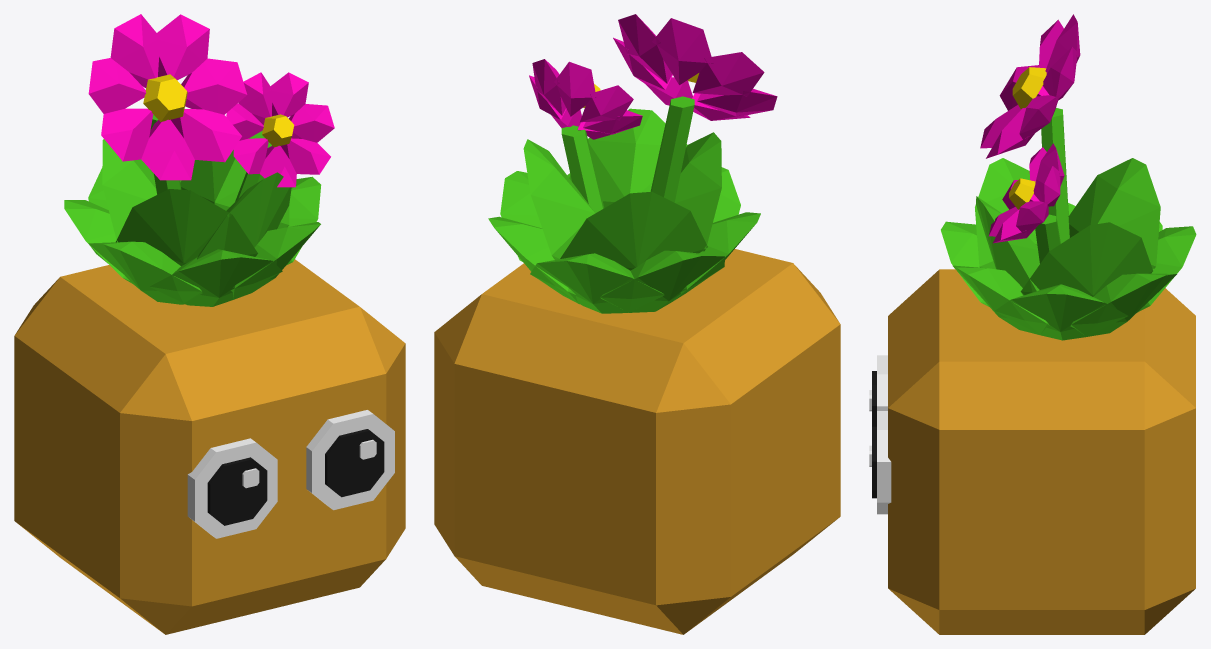
File: Flowy.fbx
3 views of the same model, side by side, from view 1: azimuth 30°, elevation 25°; view 2: azimuth 150°, elevation 25°; view 3: azimuth 270°, elevation 25° (orthographic). The views are drawn at different scales.
Visible parts, largest first — view 1: Flowy, Flowy_Plant, Flowy_Petals, Flowy_Eyes, Flowy_Pupils, Flowy_Centres; view 2: Flowy, Flowy_Plant, Flowy_Petals; view 3: Flowy, Flowy_Plant, Flowy_Petals, Flowy_Eyes, Flowy_Centres, Flowy_Pupils.
Part boxes in pixels (left/top/right/bottom): Flowy: left=14, top=259, right=405, bottom=634; Flowy_Plant: left=64, top=114, right=321, bottom=306; Flowy_Petals: left=88, top=14, right=334, bottom=187; Flowy_Eyes: left=187, top=410, right=394, bottom=538; Flowy_Pupils: left=207, top=429, right=384, bottom=525; Flowy_Centres: left=143, top=74, right=294, bottom=147; Flowy: left=434, top=249, right=840, bottom=634; Flowy_Plant: left=488, top=96, right=760, bottom=313; Flowy_Petals: left=529, top=14, right=777, bottom=139; Flowy: left=888, top=269, right=1195, bottom=634; Flowy_Plant: left=941, top=108, right=1196, bottom=340; Flowy_Petals: left=980, top=14, right=1080, bottom=243; Flowy_Eyes: left=869, top=355, right=891, bottom=514; Flowy_Centres: left=1009, top=67, right=1046, bottom=209; Flowy_Pupils: left=872, top=371, right=876, bottom=498.
Bounding box in the file's own units: 2 × 3.73 × 2.04.
